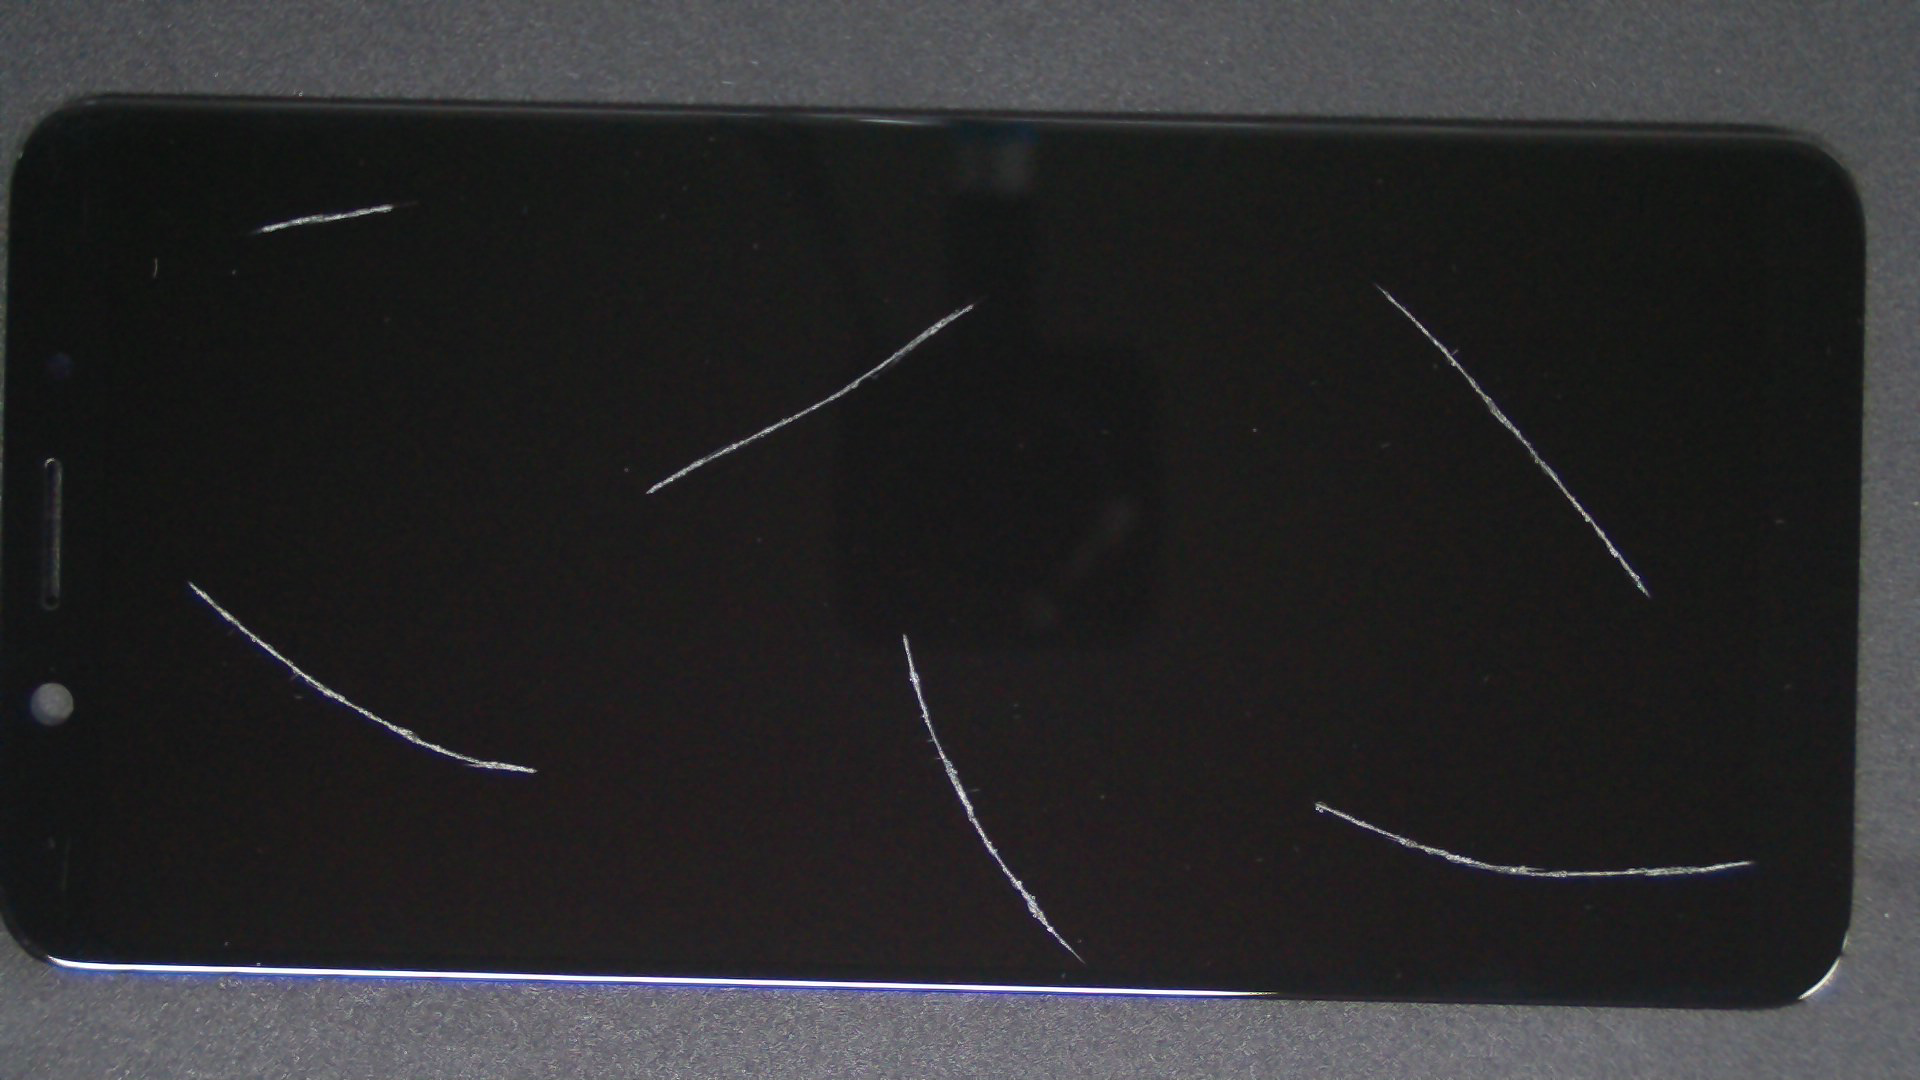defect: (1374, 284, 1647, 597), (187, 582, 535, 771), (901, 633, 1088, 967), (646, 305, 972, 495), (1313, 800, 1755, 877), (253, 203, 393, 233)
